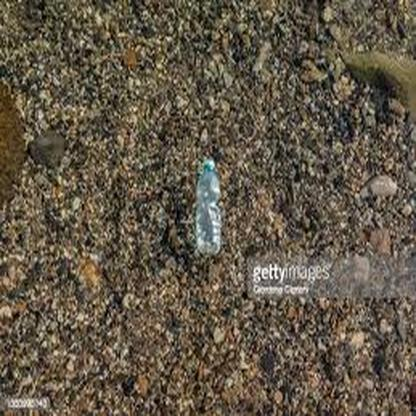plastic bottle: (195, 157, 223, 254)
